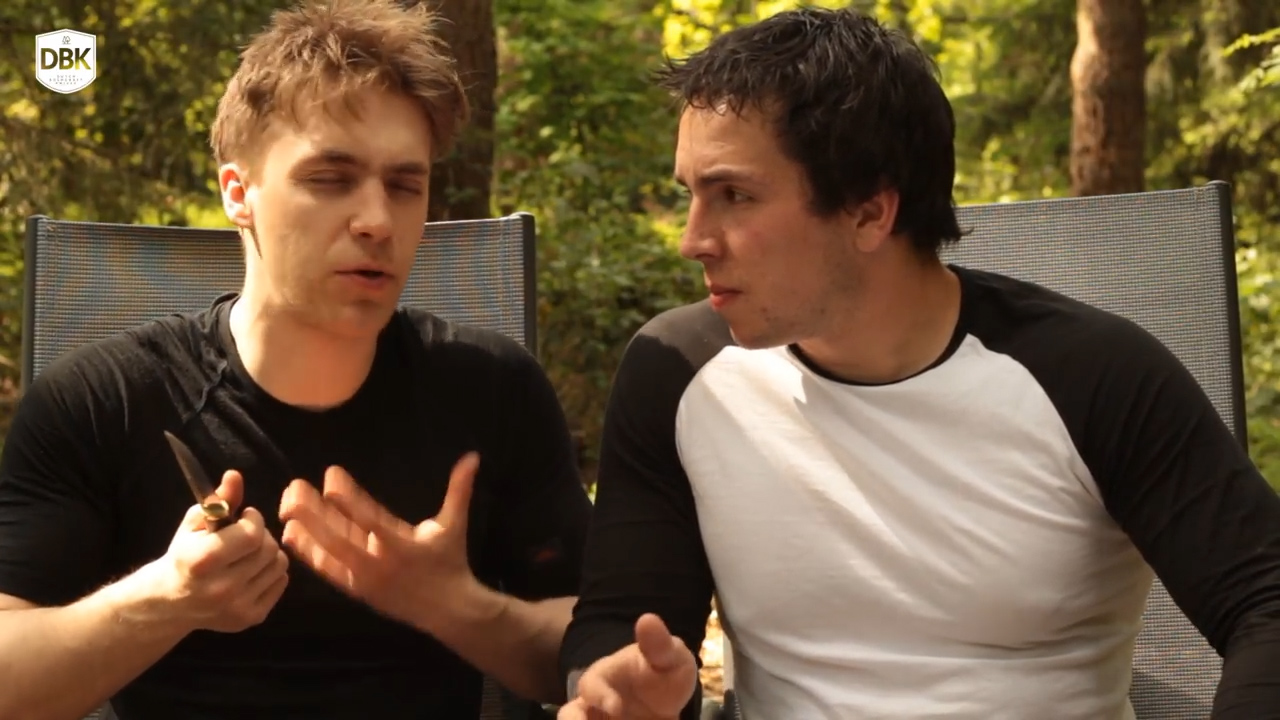knife: (142, 412, 289, 587)
